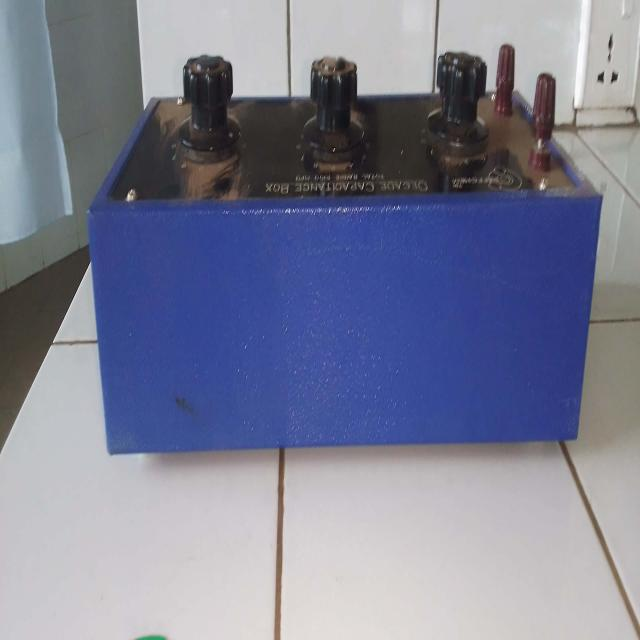Decade Capacitor Box: (82, 13, 609, 464)
